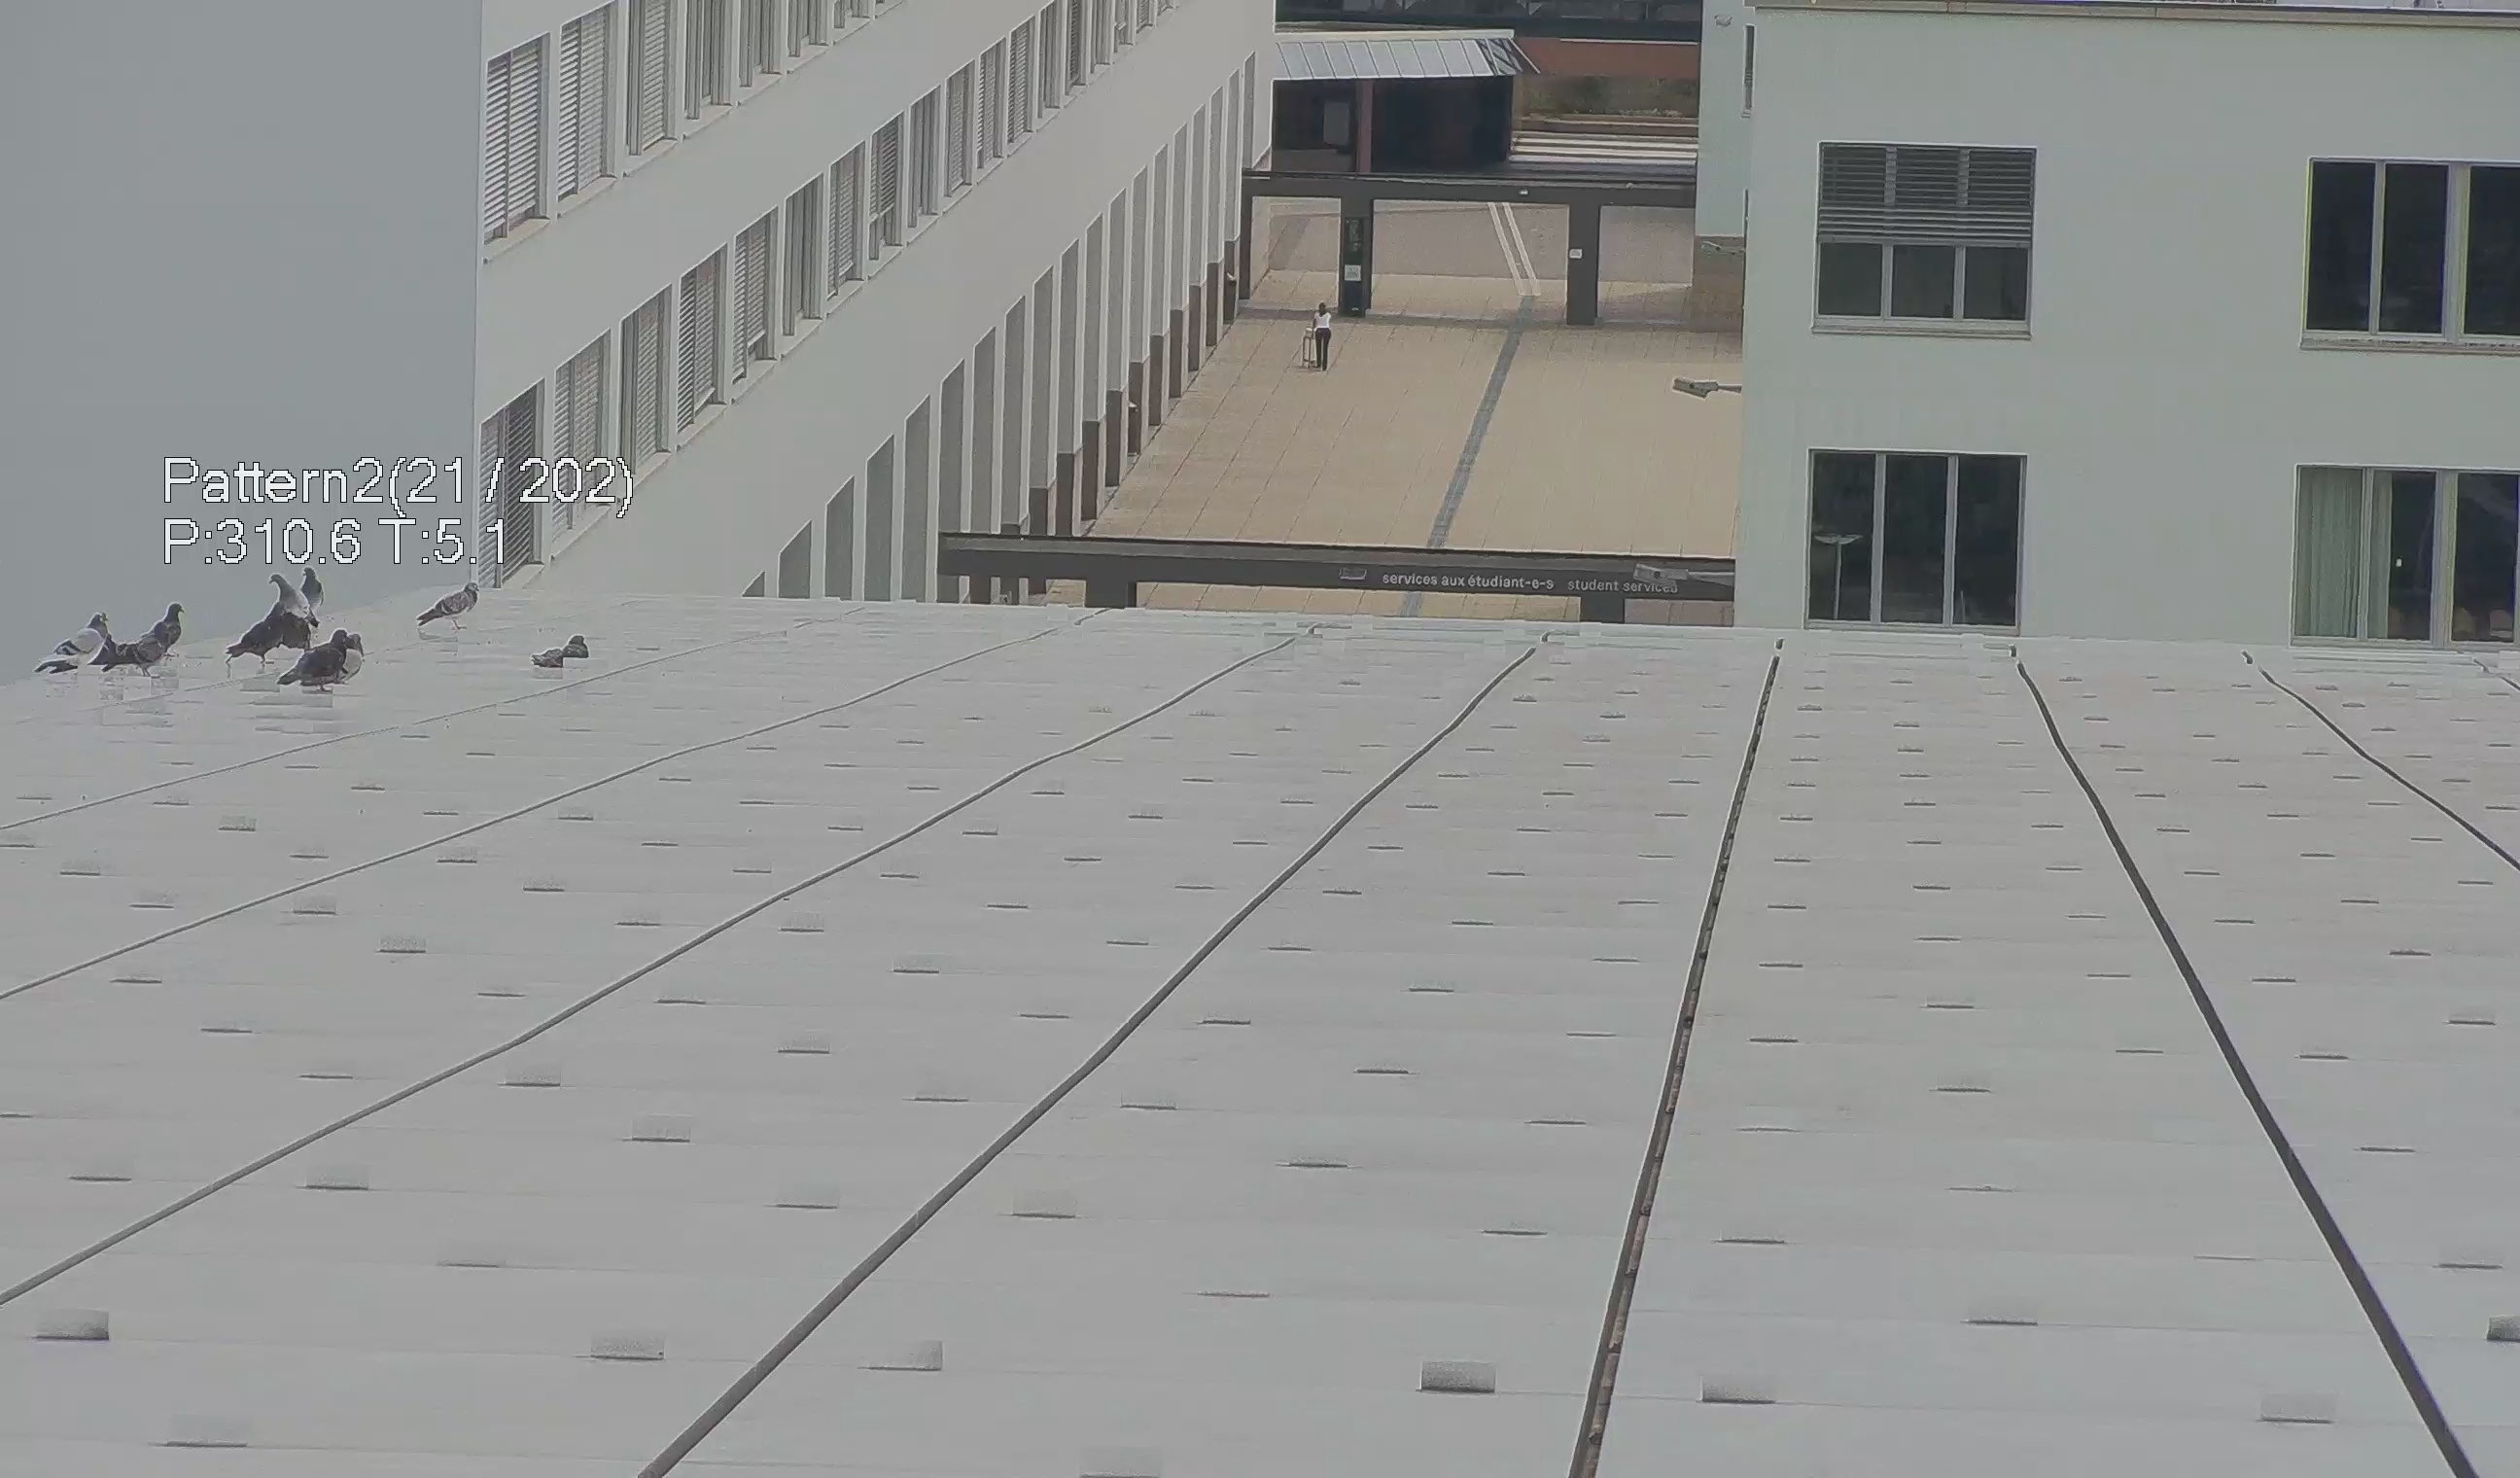Pigeon: (223, 596, 322, 670), (32, 611, 123, 684), (281, 614, 355, 695), (412, 579, 491, 633), (100, 626, 171, 679), (533, 625, 596, 681), (266, 568, 317, 618), (336, 632, 378, 688), (142, 602, 192, 642), (295, 568, 334, 604)
